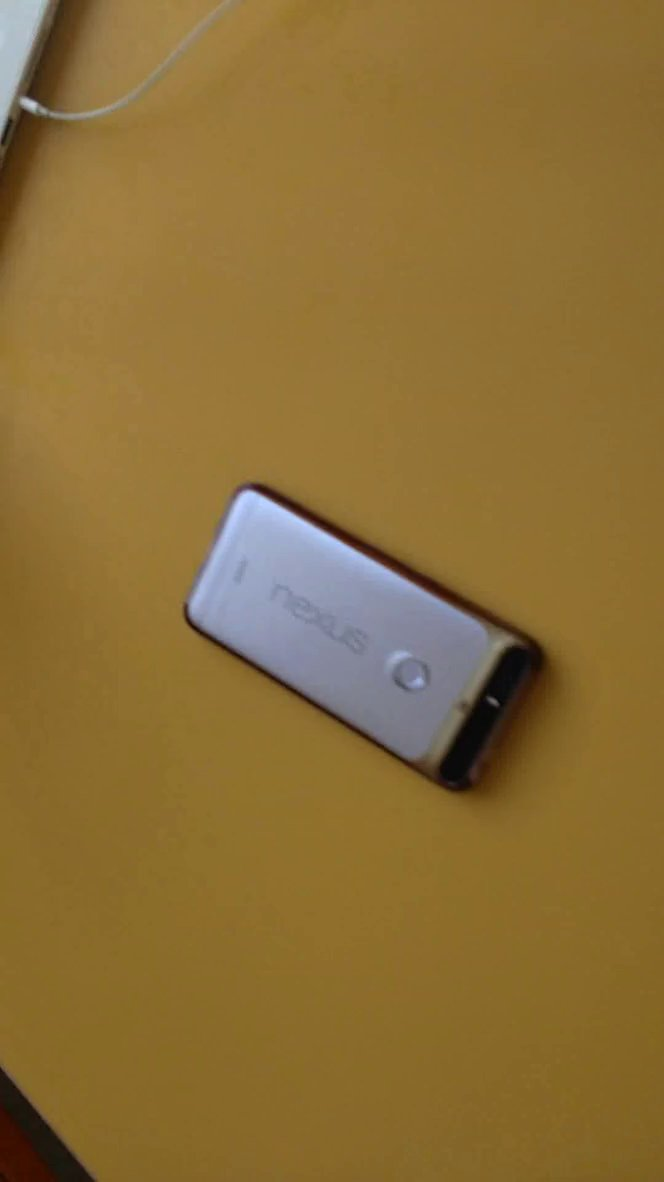phone: (165, 461, 585, 825)
